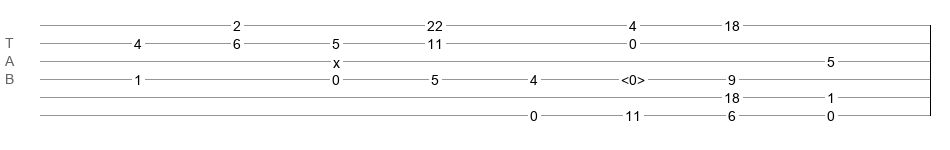0: (332, 72, 340, 82), (530, 108, 538, 118), (629, 36, 637, 46), (827, 108, 835, 118)
1: (134, 72, 142, 82), (827, 90, 835, 100)
11: (427, 36, 443, 46), (625, 108, 641, 118)
18: (724, 18, 740, 28), (724, 90, 740, 100)
2: (233, 18, 241, 28)
22: (427, 18, 443, 28)
4: (134, 36, 142, 46), (530, 72, 538, 82), (629, 18, 637, 28)
5: (332, 36, 340, 46), (431, 72, 439, 82), (827, 54, 835, 64)
6: (233, 36, 241, 46), (728, 108, 736, 118)
9: (728, 72, 736, 82)
harmonic: (621, 72, 645, 82)
x: (333, 55, 340, 63)
